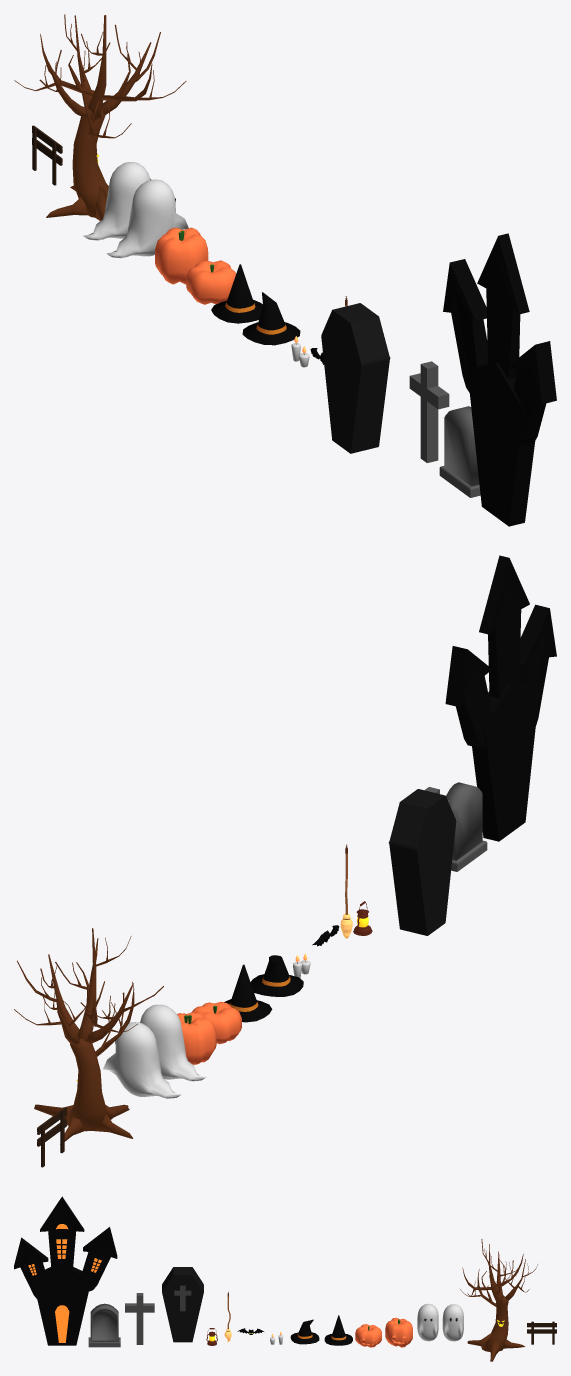
File: Halloween_set_2020_0-1-2.fbx
3 views of the same model, one above another, from view 1: azimuth 30°, elevation 25°; view 2: azimuth 150°, elevation 25°; view 3: azimuth 270°, elevation 25° (orthographic). The views are drawn at different scales.
Parts seen in each view (by area): view 1: house.001, cemetery01.001, tree, cemetery01, cemetery03.001, ghost_01.001, ghost_02.001, cemetery02.001, pumpkin_02.001, boushi.001, boushi, pumpkin_01.001 (+3 smaller); view 2: house.001, cemetery01.001, tree, ghost_02.001, cemetery01, cemetery03.001, ghost_01.001, boushi.001, boushi, pumpkin_02.001, pumpkin_01.001, fence_01 (+1 smaller); view 3: house.001, cemetery01.001, tree, cemetery03.001, ghost_02.001, ghost_01, cemetery02.001, pumpkin_02, cemetery03, pumpkin_01.001, boushi, boushi.001 (+2 smaller).
Boxes of the visible parts, left/top/right/bottom form: house.001: left=443, top=233, right=556, bottom=526; cemetery01.001: left=321, top=303, right=390, bottom=453; tree: left=14, top=14, right=186, bottom=220; cemetery01: left=321, top=310, right=389, bottom=451; cemetery03.001: left=439, top=406, right=480, bottom=497; ghost_01.001: left=106, top=180, right=186, bottom=258; ghost_02.001: left=83, top=162, right=150, bottom=240; cemetery02.001: left=409, top=361, right=449, bottom=462; pumpkin_02.001: left=155, top=230, right=206, bottom=284; boushi.001: left=242, top=292, right=300, bottom=345; boushi: left=211, top=264, right=262, bottom=323; pumpkin_01.001: left=186, top=260, right=235, bottom=296; house.001: left=445, top=555, right=556, bottom=841; cemetery01.001: left=388, top=789, right=456, bottom=935; tree: left=14, top=928, right=163, bottom=1144; ghost_02.001: left=103, top=1022, right=181, bottom=1098; cemetery01: left=389, top=796, right=455, bottom=934; cemetery03.001: left=446, top=782, right=487, bottom=871; ghost_01.001: left=150, top=1005, right=206, bottom=1081; boushi.001: left=250, top=955, right=303, bottom=996; boushi: left=224, top=964, right=272, bottom=1022; pumpkin_02.001: left=179, top=1012, right=216, bottom=1064; pumpkin_01.001: left=192, top=1001, right=241, bottom=1036; fence_01: left=37, top=1107, right=66, bottom=1167; house.001: left=14, top=1196, right=117, bottom=1345; cemetery01.001: left=162, top=1267, right=203, bottom=1342; tree: left=460, top=1239, right=537, bottom=1361; cemetery03.001: left=88, top=1303, right=120, bottom=1347; ghost_02.001: left=442, top=1304, right=463, bottom=1341; ghost_01: left=417, top=1304, right=438, bottom=1341; cemetery02.001: left=125, top=1293, right=154, bottom=1344; pumpkin_02: left=386, top=1318, right=412, bottom=1347; cemetery03: left=92, top=1307, right=118, bottom=1341; pumpkin_01.001: left=355, top=1324, right=381, bottom=1345; boushi: left=324, top=1315, right=352, bottom=1345; boushi.001: left=290, top=1319, right=319, bottom=1344.
Bounding box in the file's own units: 580 × 1163 × 3835.
